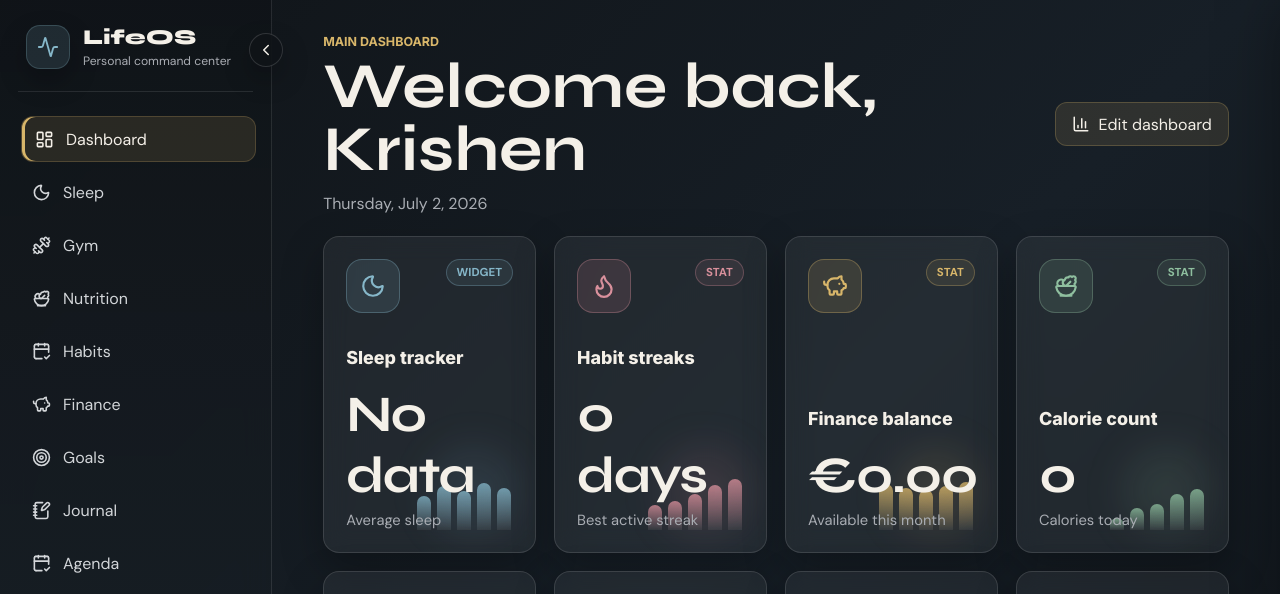
Test: updates dashboard mood from a saved diary entry
Click the button "Journal".
click(136, 510)  # box [18,487,253,533]
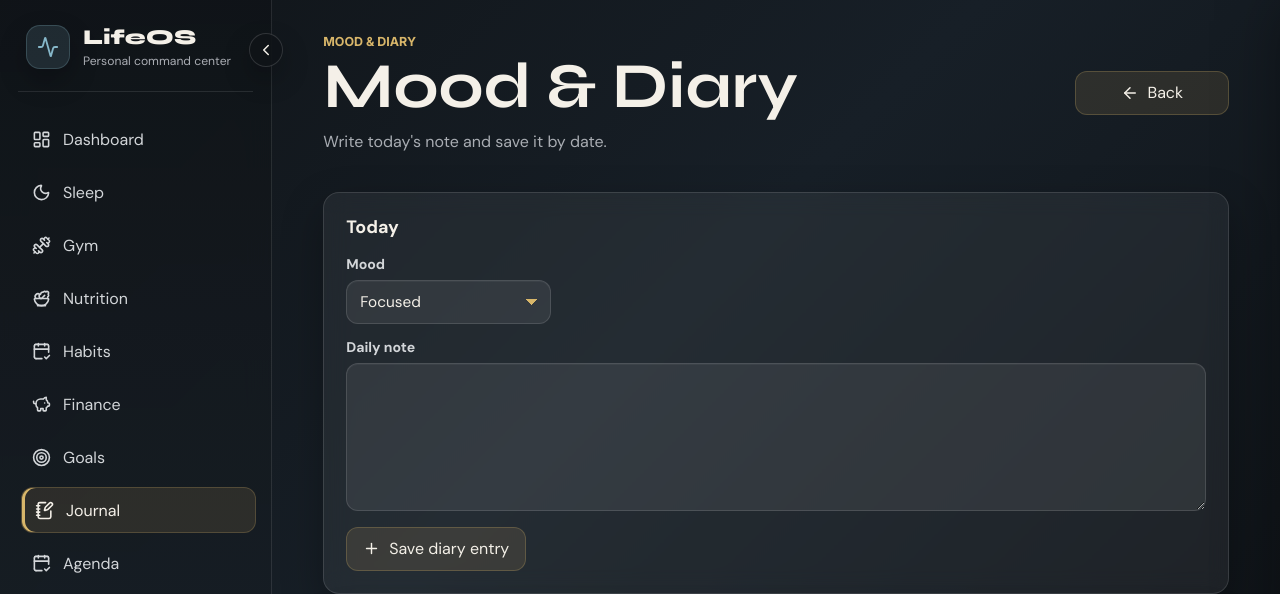
Select "Happy" in the dropdown labelled "Mood" at (448, 302), box [346,280,551,324]
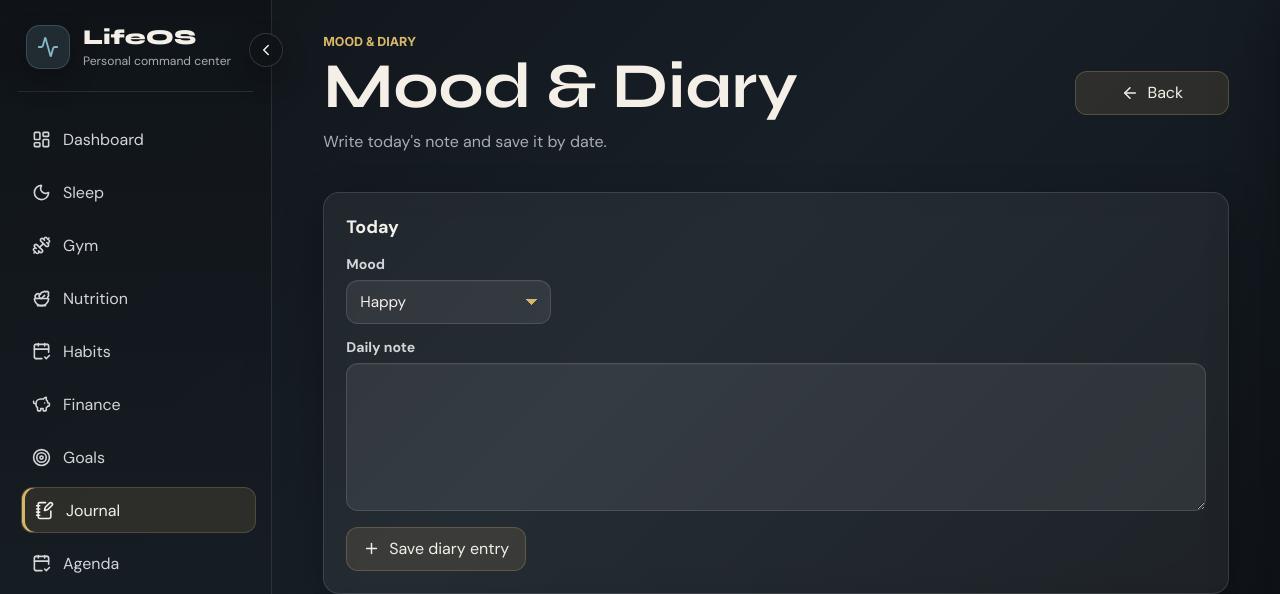
Type "Felt good after a focused morning." into the text box labelled "Daily note".
click(776, 437); type("Felt good after a focused morning.")  # box [346,363,1206,511]
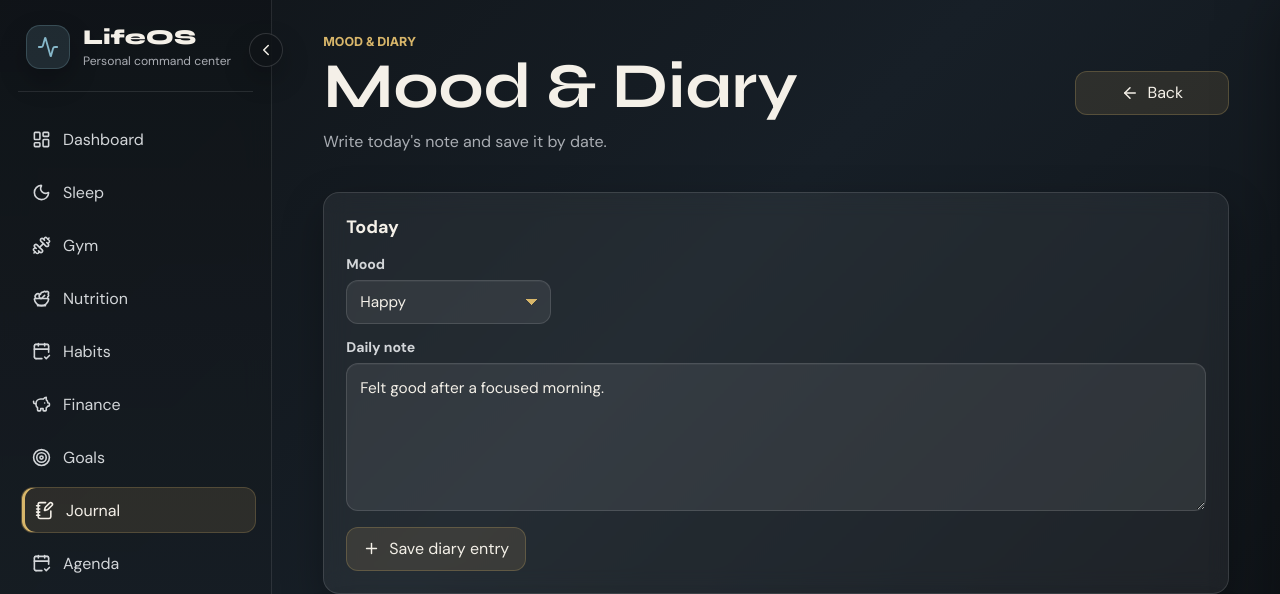
Click the button "Save diary entry".
click(436, 549)  # box [346,527,526,571]
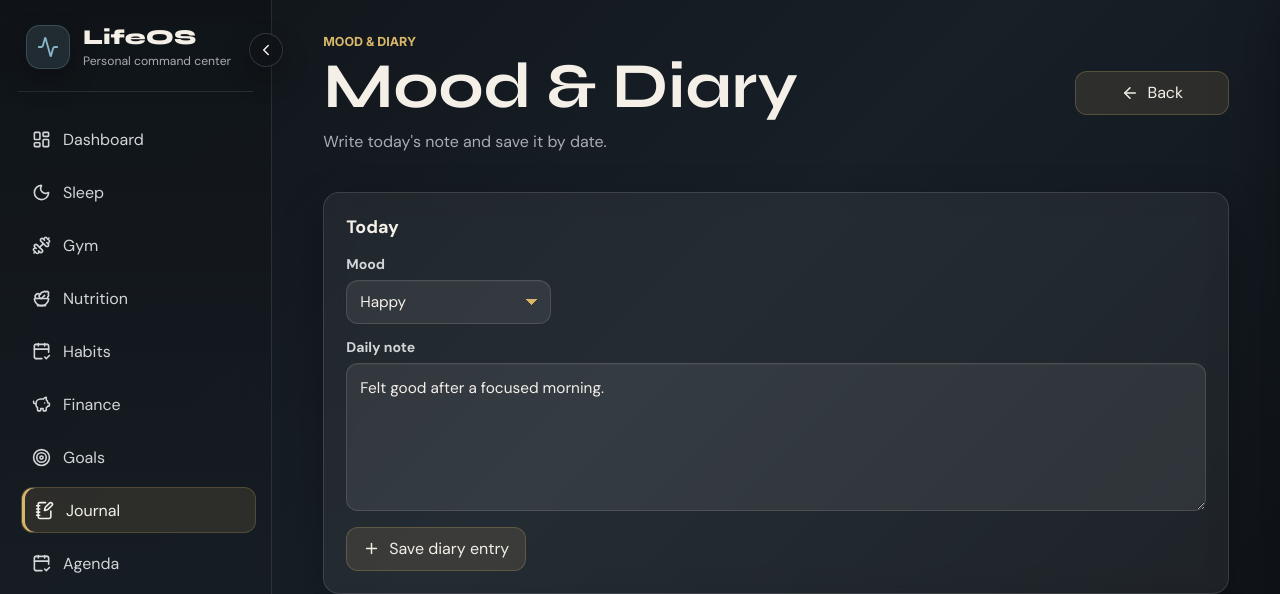
Click the button "Back".
click(1152, 93)  # box [1075,71,1229,115]
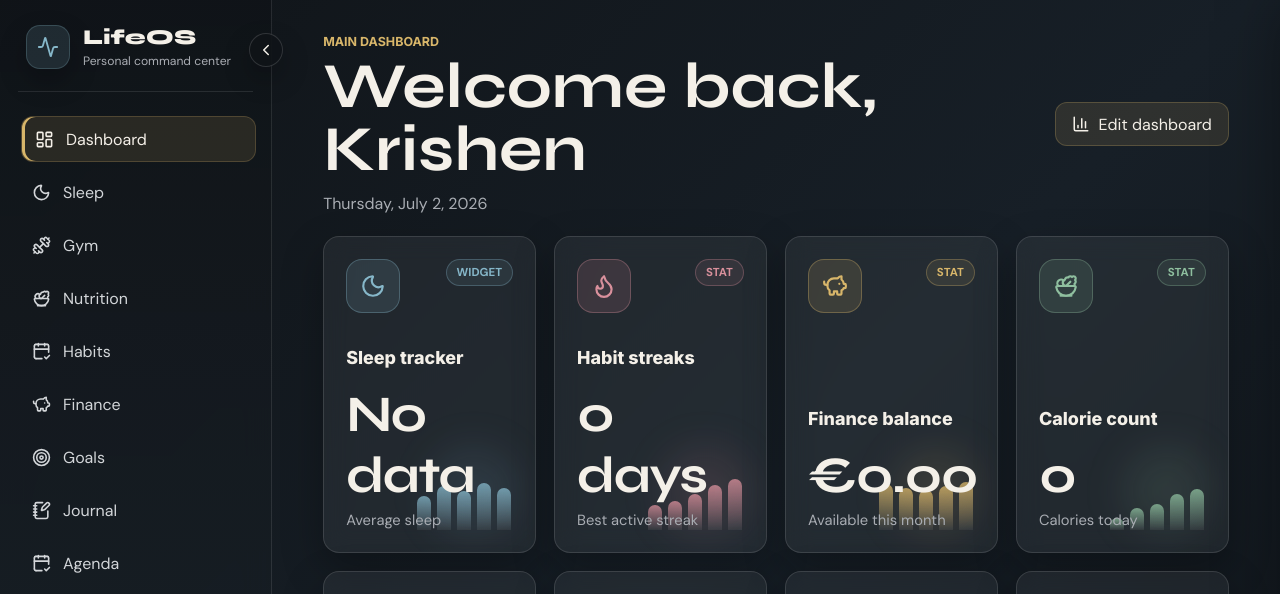
Result: the heading "Welcome back, Krishen" is shown at [323,48,877,188]
